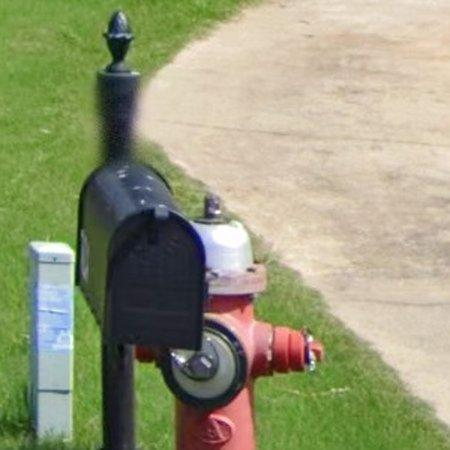a fire hydrant: (137, 195, 325, 450)
